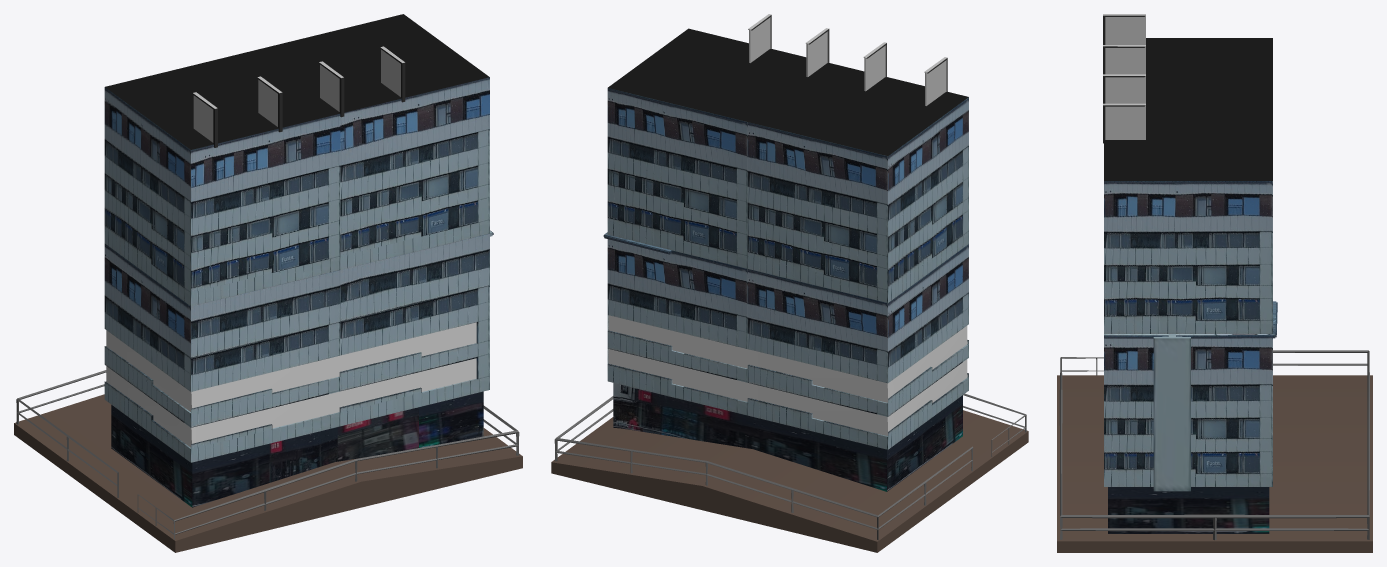
Rendered from pyrobox_tretalo2.fbx.
3 views of the same model, side by side, from view 1: azimuth 30°, elevation 25°; view 2: azimuth 150°, elevation 25°; view 3: azimuth 270°, elevation 25° (orthographic). The views are drawn at different scales.
Visible parts, largest first — view 1: Cube; view 2: Cube; view 3: Cube.
Boxes of the visible parts, <box> form: Cube: <box>14,14,522,552</box>; Cube: <box>551,14,1028,552</box>; Cube: <box>1057,14,1372,552</box>.
Size of the model in its own units: 1861 by 2105 by 1495.
